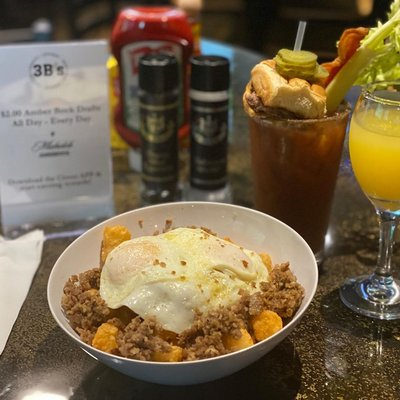pizza: (244, 74, 355, 267)
sushi: (48, 203, 318, 386)
